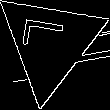L_E: (24, 24, 76, 62)
